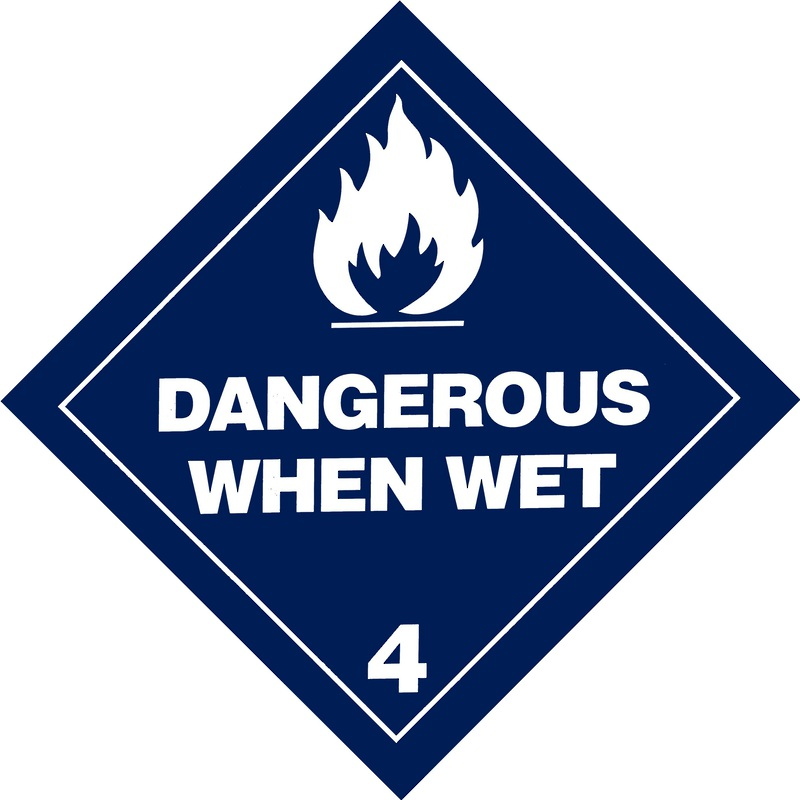Dangerous when wet: (1, 1, 800, 800)
